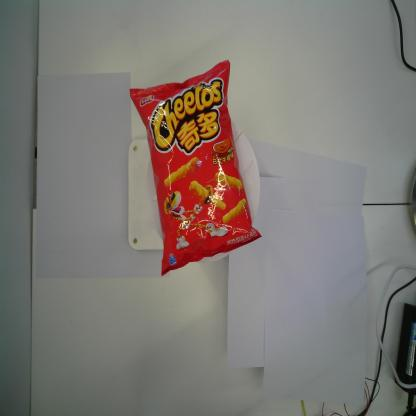Puffed Food: (131, 59, 262, 280)
